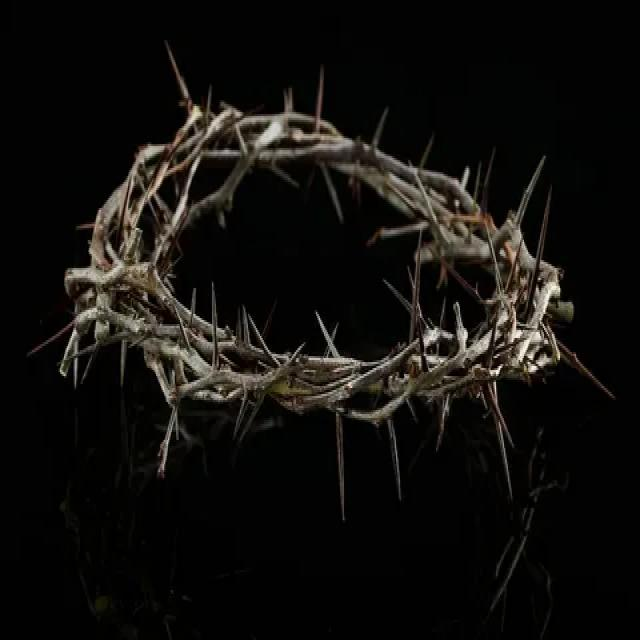crown: (61, 86, 581, 480)
